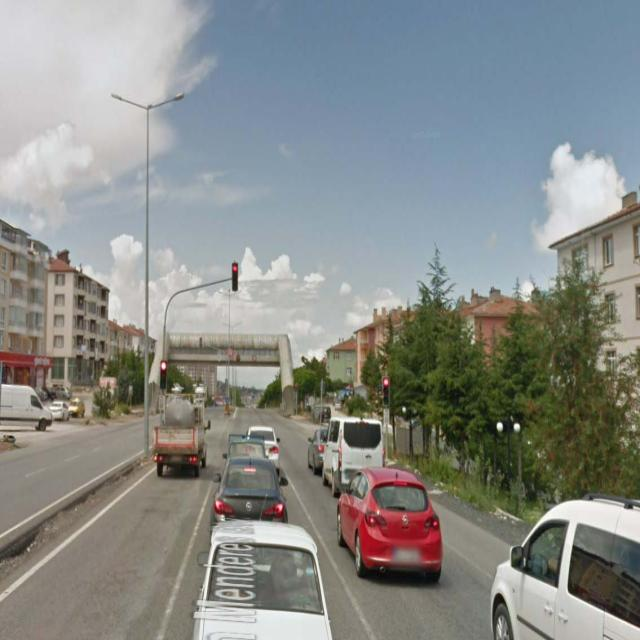kirmizi: (159, 359, 167, 389), (382, 378, 390, 407), (232, 262, 238, 290)
